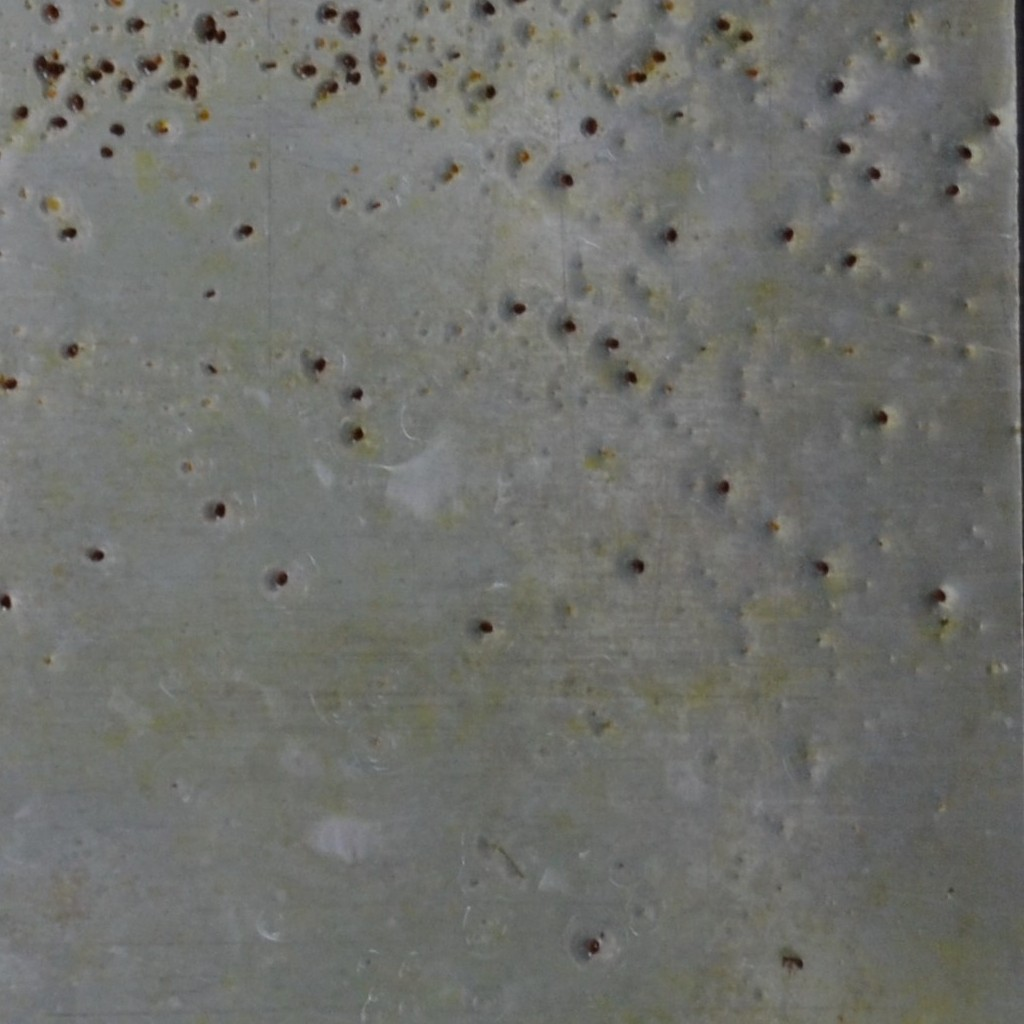varroa: (812, 557, 833, 579), (841, 249, 860, 272), (70, 89, 87, 114), (779, 223, 799, 244), (299, 60, 319, 81), (342, 18, 365, 36), (47, 114, 70, 132), (628, 557, 648, 577), (508, 299, 528, 319), (475, 619, 496, 638), (871, 405, 888, 428), (585, 933, 602, 956), (582, 113, 599, 136), (310, 354, 327, 377), (560, 170, 576, 194), (833, 137, 853, 156), (97, 144, 117, 163), (13, 101, 33, 120), (347, 423, 365, 444), (88, 545, 105, 567), (944, 178, 960, 201), (345, 69, 364, 88), (931, 585, 949, 605), (98, 55, 116, 75), (235, 223, 256, 240), (482, 80, 498, 102), (865, 163, 883, 182), (650, 46, 668, 65), (985, 109, 1002, 129), (905, 48, 922, 68), (43, 0, 60, 20), (562, 316, 578, 337), (274, 567, 290, 588), (213, 500, 228, 522), (956, 143, 974, 161), (478, 0, 496, 18), (713, 16, 732, 33), (829, 76, 845, 96), (624, 367, 640, 387), (605, 333, 621, 353), (59, 225, 79, 241), (65, 339, 79, 361), (0, 591, 14, 613), (737, 27, 755, 44), (630, 68, 647, 86), (663, 226, 680, 244), (324, 79, 341, 97), (167, 77, 184, 95), (141, 57, 159, 74), (320, 5, 339, 21), (201, 13, 217, 32), (130, 16, 146, 35), (85, 67, 104, 83), (107, 120, 126, 136), (50, 61, 66, 80), (349, 384, 365, 403), (341, 6, 361, 21), (2, 377, 19, 394), (715, 477, 731, 495), (343, 51, 359, 69), (426, 71, 439, 92), (35, 53, 48, 73), (119, 77, 135, 93), (177, 52, 191, 69), (185, 85, 199, 101), (214, 28, 227, 45), (203, 27, 216, 43), (185, 71, 198, 87)
